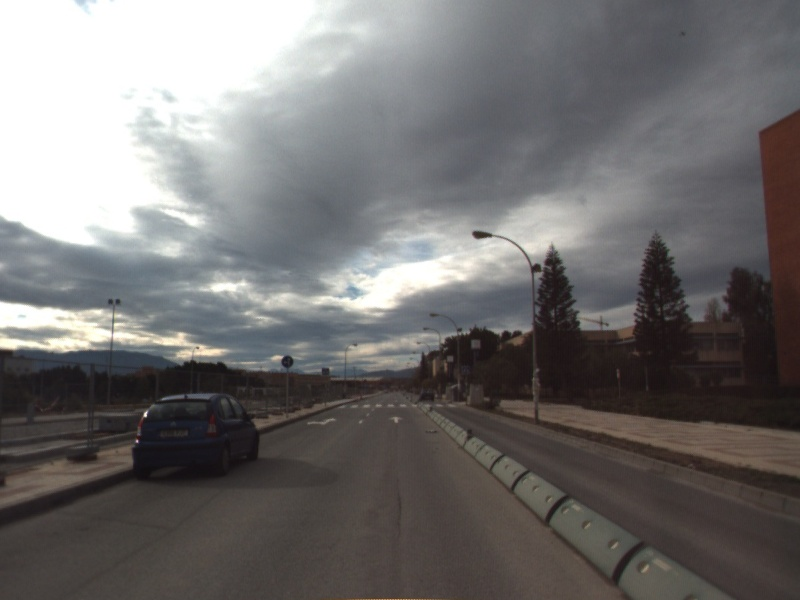STRAIGHT: (387, 414, 405, 425)
STRAIGHT_LEFT: (305, 416, 339, 427)
